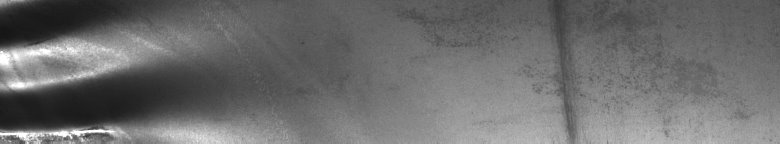ke: (4, 4, 173, 136)
